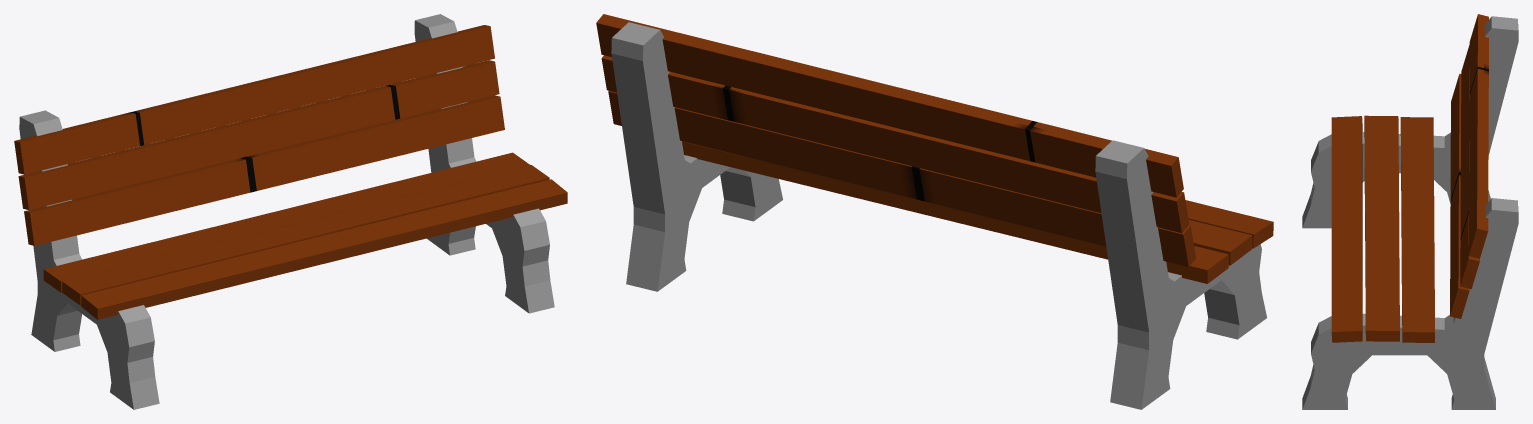
Rendered from Bench.fbx.
3 renders of one model, left to right at view 1: azimuth 30°, elevation 25°; view 2: azimuth 150°, elevation 25°; view 3: azimuth 270°, elevation 25°, orthographic. The views are drawn at different scales.
Parts seen in each view (by area): view 1: banco jardim; view 2: banco jardim; view 3: banco jardim.
Part boxes in pixels (<box>): banco jardim: <box>14,14,567,409</box>; banco jardim: <box>596,14,1273,409</box>; banco jardim: <box>1302,14,1518,409</box>.
Size of the model in its own units: 476 by 205 by 201.
Materials: 3 (2 with a texture image).
